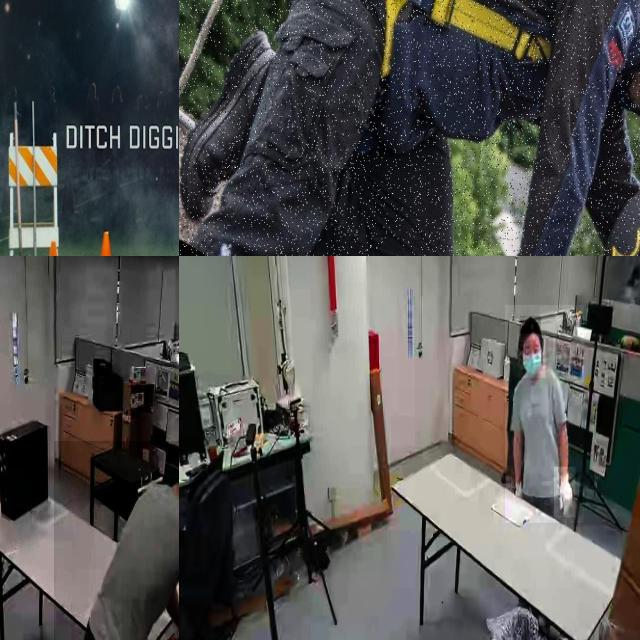face_mask: (518, 334, 546, 378)
hand_glove: (554, 467, 576, 518)
head_nohelmet: (520, 316, 542, 334)
person: (53, 441, 179, 640), (505, 305, 584, 524)
